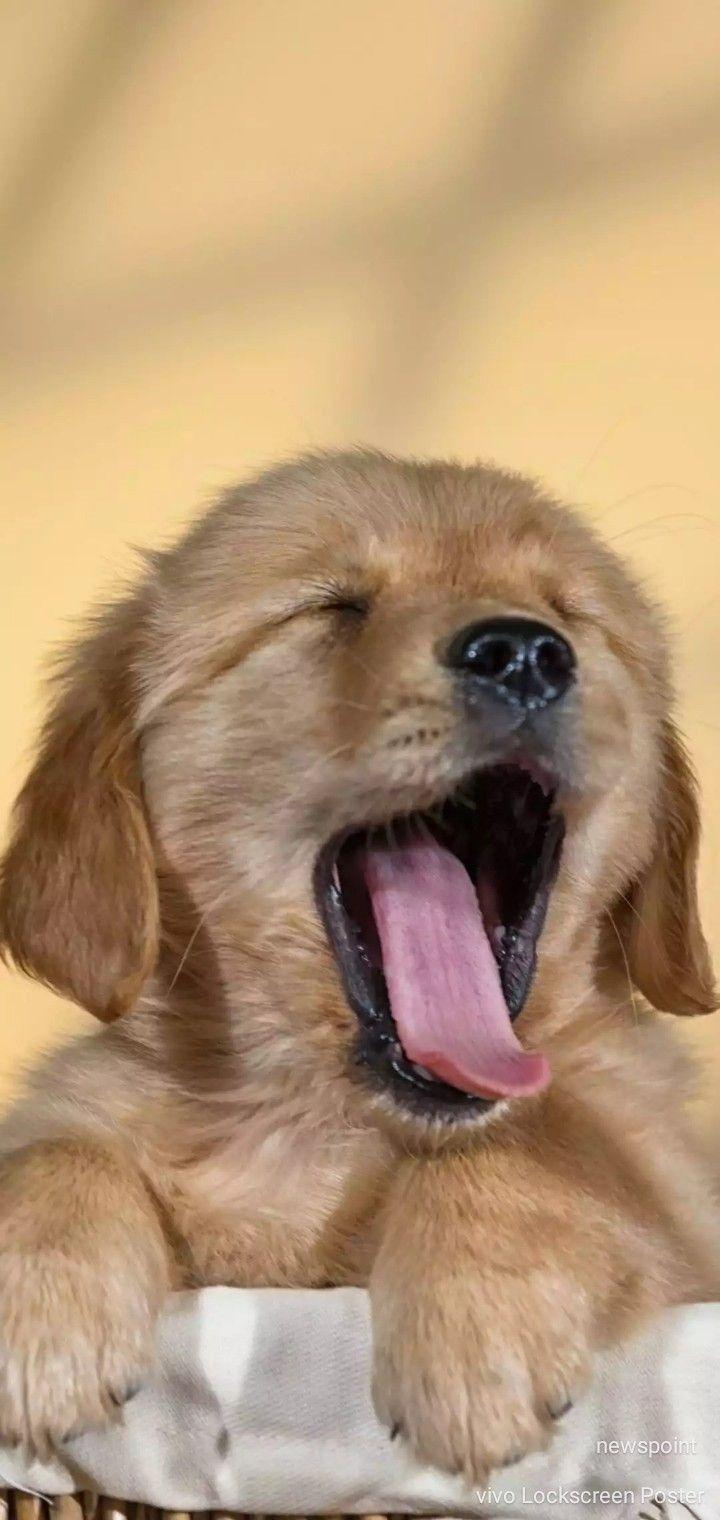puppy-dog: (0, 447, 720, 1484)
